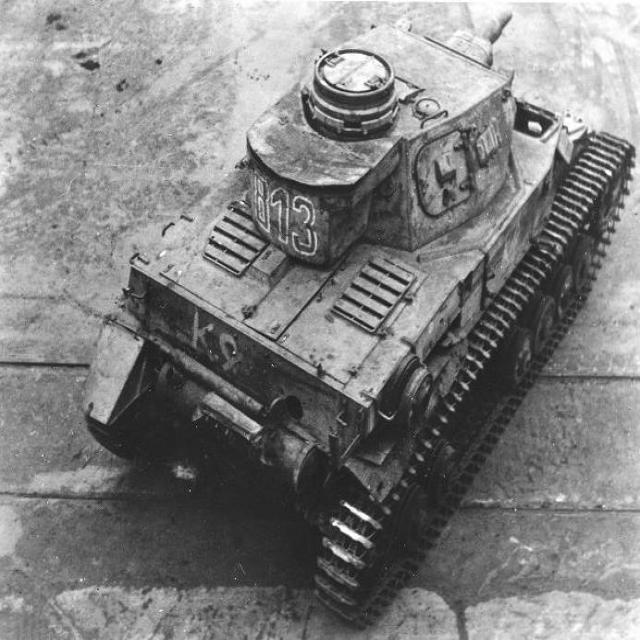Tanks: (78, 5, 630, 593)
